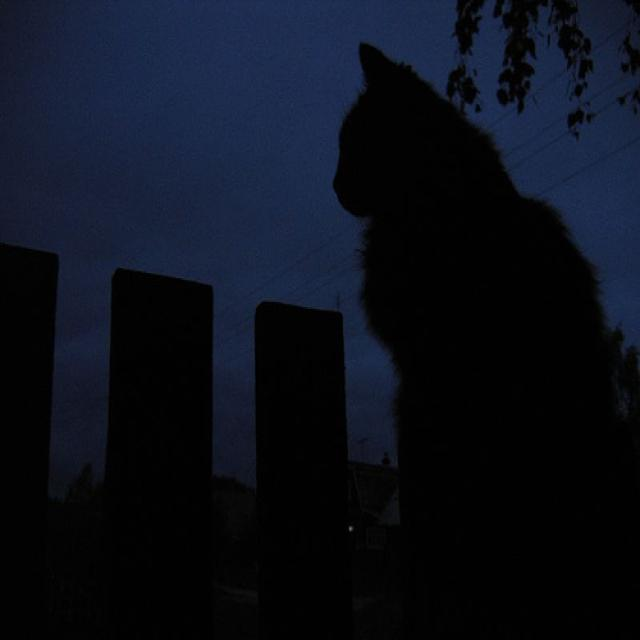Cat: (310, 0, 640, 640)
